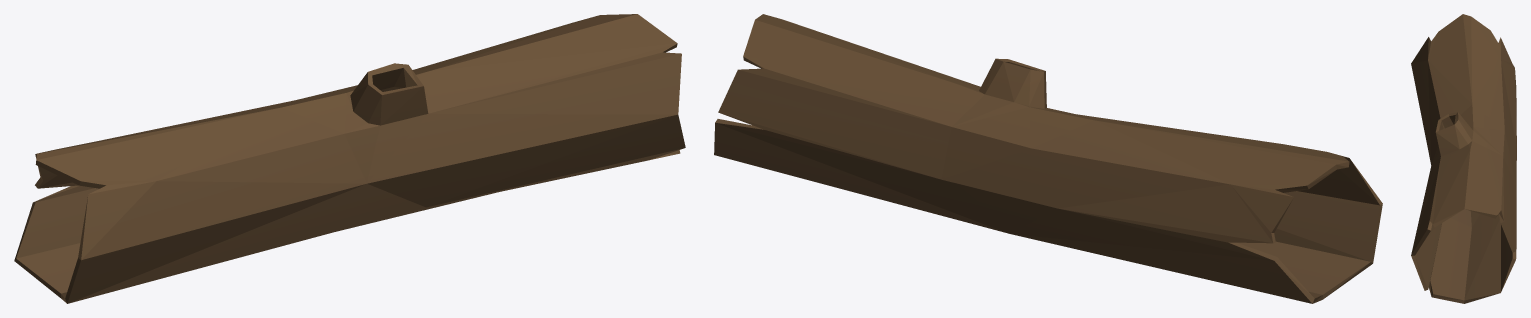
File: Mesh_Nature_Log_01.FBX
3 views of the same model, side by side, from view 1: azimuth 30°, elevation 25°; view 2: azimuth 150°, elevation 25°; view 3: azimuth 270°, elevation 25° (orthographic). The views are drawn at different scales.
Parts seen in each view (by area): view 1: Mesh_Nature_Log_01; view 2: Mesh_Nature_Log_01; view 3: Mesh_Nature_Log_01.
Part boxes in pixels (x1,y1,x2,y2): Mesh_Nature_Log_01: (14,14,685,303); Mesh_Nature_Log_01: (714,14,1382,303); Mesh_Nature_Log_01: (1411,14,1516,303).
Size of what is drawn, in the model's own units: 307 by 68.93 by 75.11.
